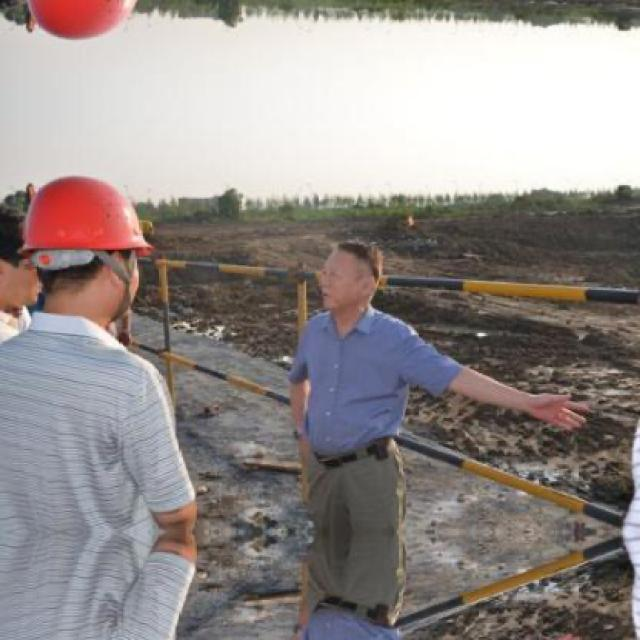con casco: (0, 170, 165, 351)
sin casco: (289, 214, 412, 344)
